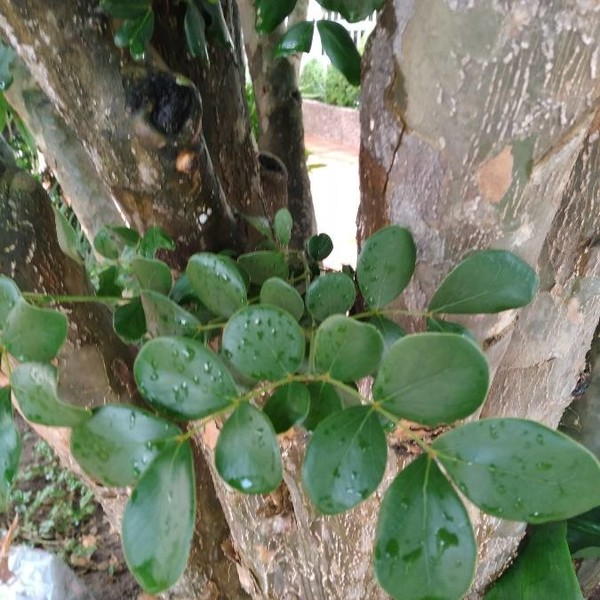obstacle: (30, 228, 548, 572)
